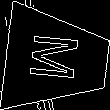M_E: (26, 34, 87, 86)
